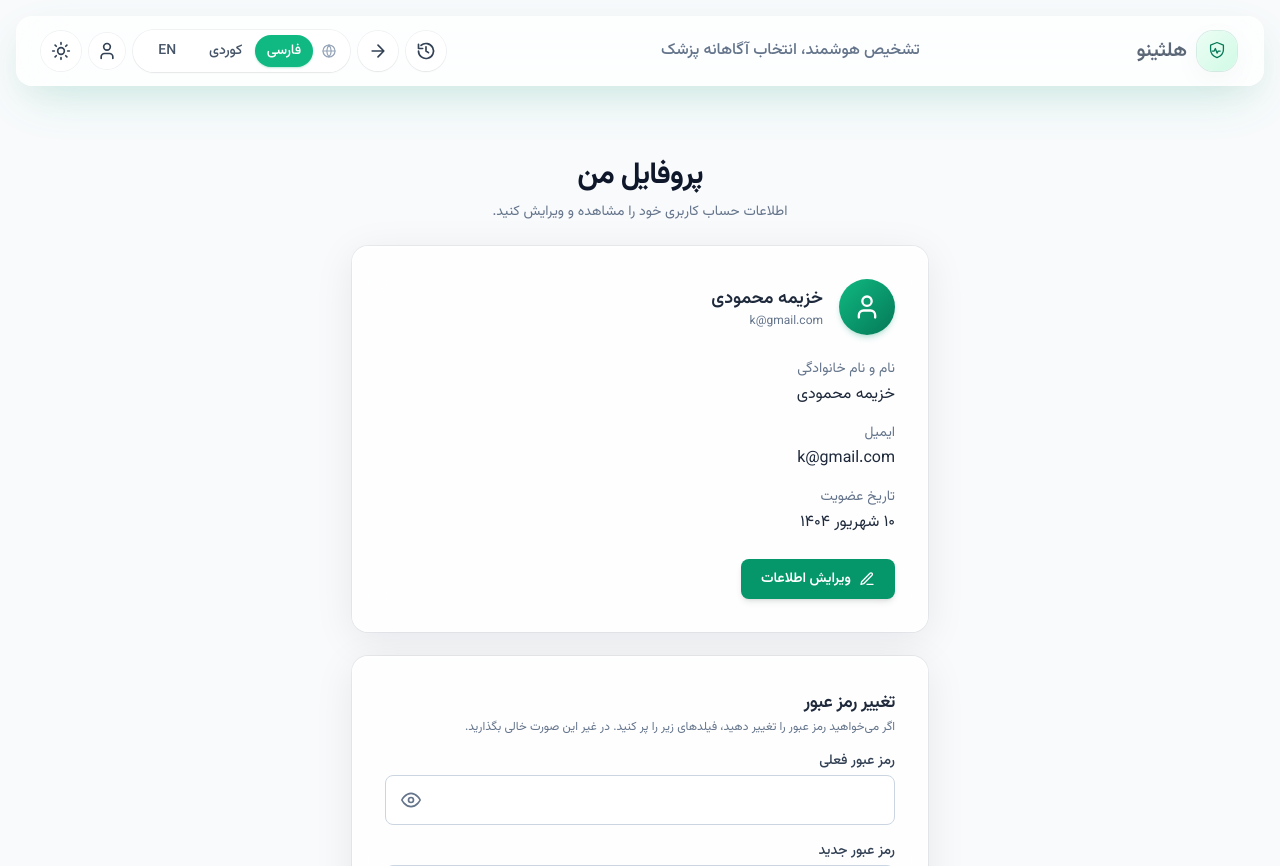
UserProfile.vue — change password › keeps the Change Password button disabled until every rule passes
Type "oldsecret" into the password field with test id "profile-current-password-input" at coordinates (640, 800), box [385,775,895,825]
(page scrolled)
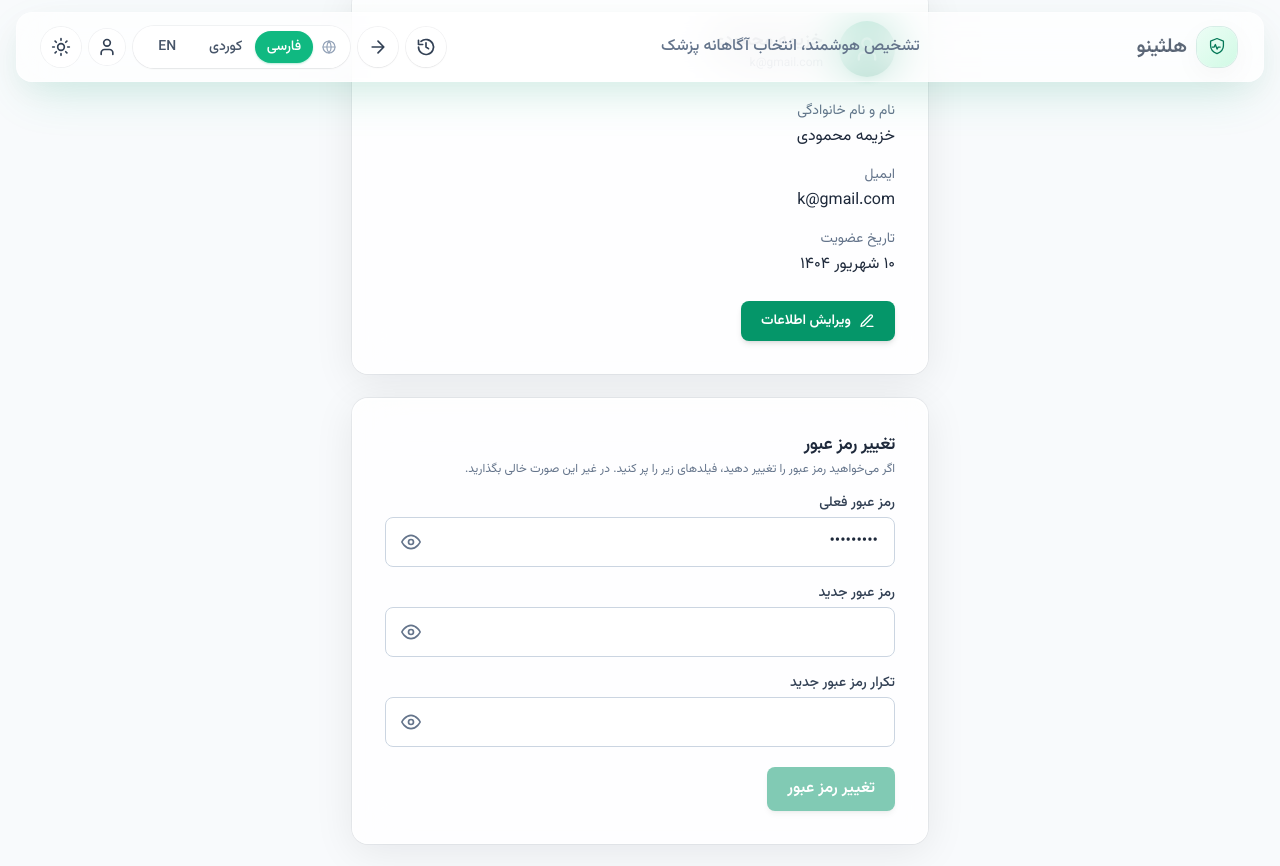
Type "StrongPass1!" into the password field with test id "profile-new-password-input" at coordinates (640, 632), box [385,607,895,657]
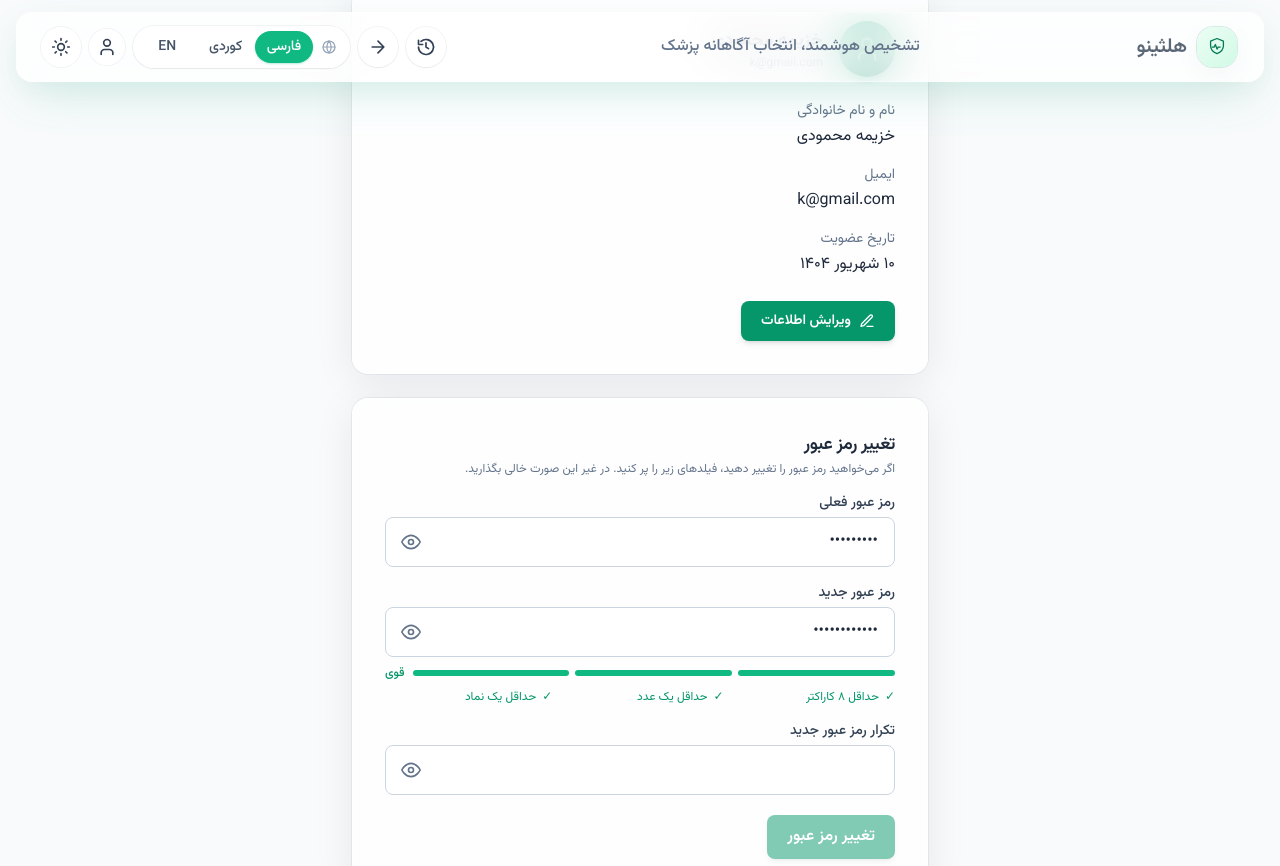
Type "StrongPass1!" into the password field with test id "profile-confirm-password-input" at coordinates (640, 770), box [385,745,895,795]
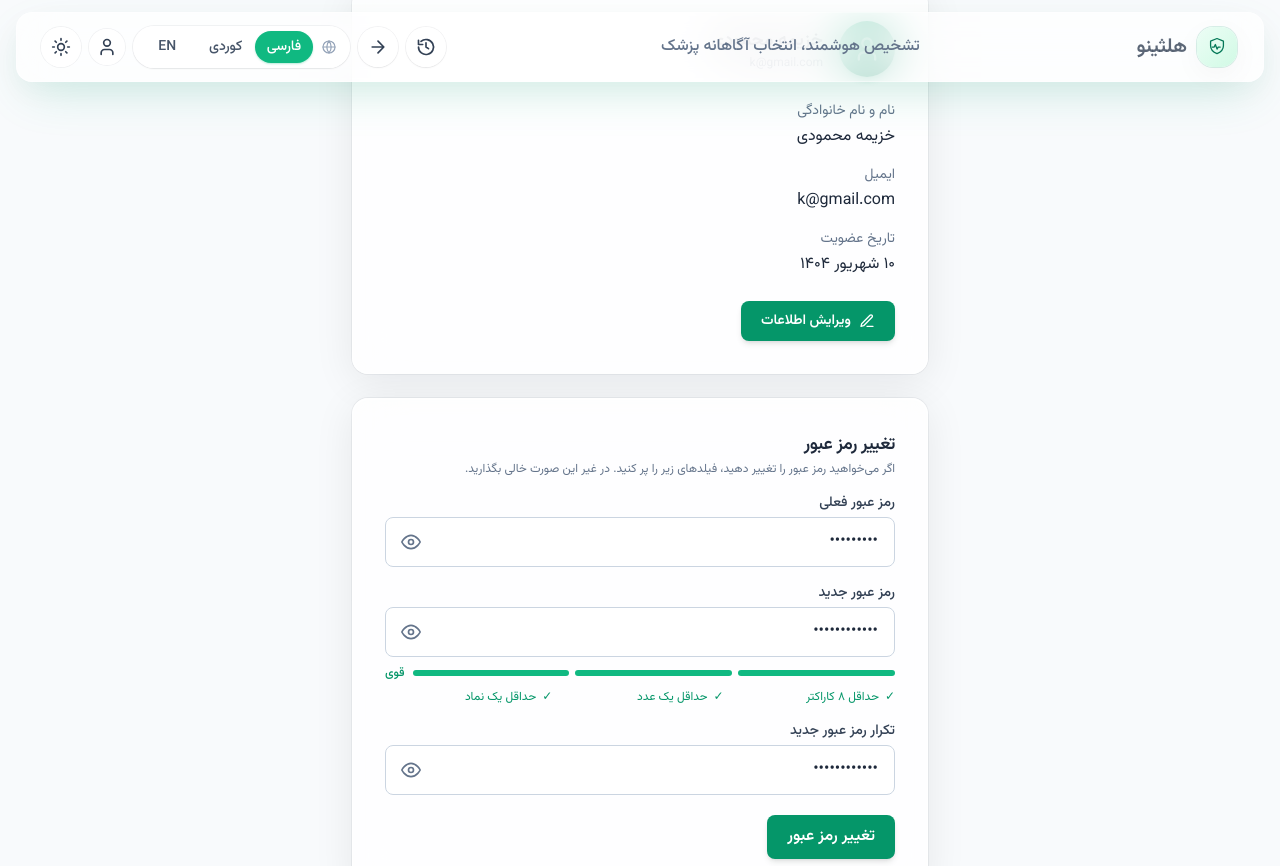
Expected: the button with test id "profile-change-password-button" is enabled, [767,815,895,859]
